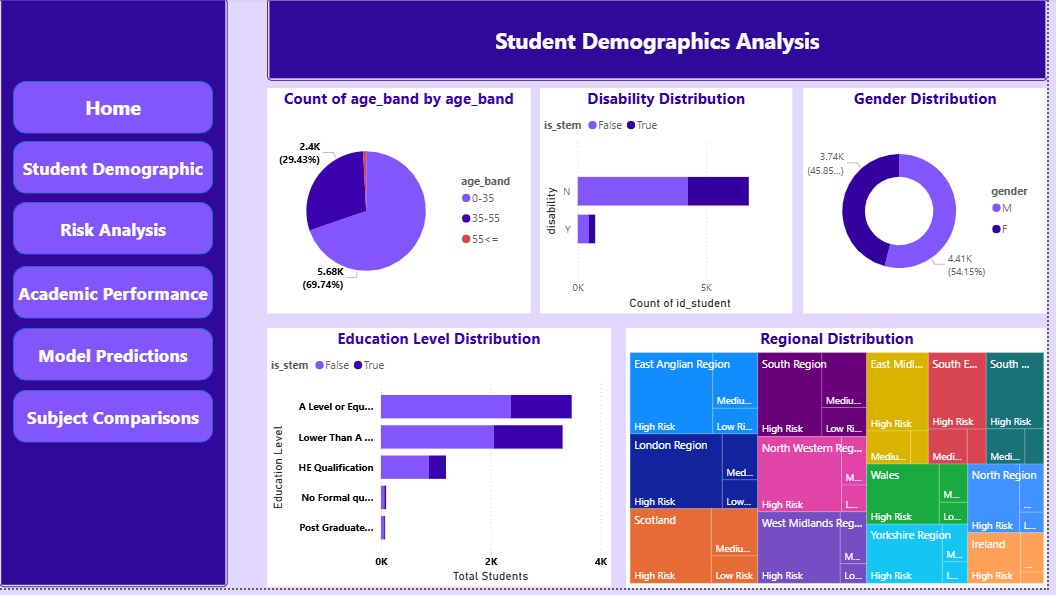

The dashboard page shown, as its layout file describes it:
{"tool":"powerbi","page":{"name":"Student Demographic","canvas":[1280,720],"ordinal":1},"visuals":[{"type":"shape","box":[0,0,279.5,718.8],"z":0},{"type":"shape","box":[327.1,0,952.9,101.4],"z":1000},{"type":"pieChart","fields":{"Y":["CountNonNull(studentInfo_for_powerbi.age_band)"],"Category":["studentInfo_for_powerbi.age_band"]},"box":[327.6,110.1,322.1,275.3],"z":2000},{"type":"donutChart","title":"Gender Distribution","fields":{"Y":["CountNonNull(studentInfo_for_powerbi.gender)"],"Category":["studentInfo_for_powerbi.gender"]},"box":[981.3,110.1,298.7,275.3],"z":3000},{"type":"barChart","title":"Education Level Distribution ","fields":{"Category":["studentInfo_for_powerbi.highest_education"],"Y":["CountNonNull(studentInfo_for_powerbi.id_student)"],"Series":["studentInfo_for_powerbi.is_stem"]},"box":[327.1,402.7,419.8,316.1],"z":4000},{"type":"barChart","title":"Disability Distribution","fields":{"Series":["comprehensive_data.is_stem"],"Y":["Count(comprehensive_data.id_student)"],"Category":["comprehensive_data.disability"]},"box":[660.6,110.1,308.3,275.3],"z":5000},{"type":"treemap","title":"Regional Distribution","fields":{"Group":["comprehensive_data.region"],"Details":["comprehensive_data.risk_level"],"Values":["Count(comprehensive_data.id_student)"]},"box":[765.2,403.3,514.8,316.6],"z":6000},{"type":"shape","box":[17.1,101.4,244.3,64.3],"z":7000},{"type":"shape","box":[17.1,174.3,244.3,64.3],"z":8000},{"type":"shape","box":[17.1,478.6,244.3,64.3],"z":9000},{"type":"shape","box":[17.1,402.9,244.3,64.3],"z":10000},{"type":"shape","box":[17.1,327.1,244.3,64.3],"z":11000},{"type":"shape","box":[17.1,248.6,244.3,64.3],"z":12000}]}

Visuals, with their boxes in screenshot pixels (x1, y1, x2, y2), scaled from the page's 1280x720 canvas onto the 1056x595 screenshot:
shape: 0,0,231,594
shape: 270,0,1055,84
pieChart - CountNonNull(studentInfo_for_powerbi.age_band) x studentInfo_for_powerbi.age_band: 270,91,536,318
"Gender Distribution" donutChart: 810,91,1055,318
"Education Level Distribution " barChart: 270,333,616,594
"Disability Distribution" barChart: 545,91,799,318
"Regional Distribution" treemap: 631,333,1055,594
shape: 14,84,216,137
shape: 14,144,216,197
shape: 14,396,216,449
shape: 14,333,216,386
shape: 14,270,216,323
shape: 14,205,216,259
